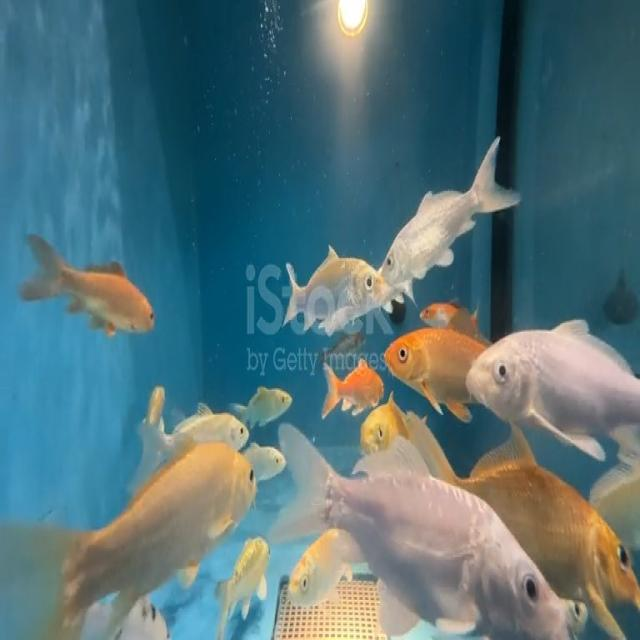fish: (278, 416, 570, 640), (0, 425, 261, 640), (459, 316, 640, 459), (490, 459, 640, 608), (21, 216, 163, 362), (382, 138, 532, 267), (278, 250, 393, 336), (377, 326, 471, 407), (283, 526, 352, 618), (217, 532, 274, 626), (320, 348, 384, 416), (349, 393, 404, 465), (178, 403, 256, 447), (238, 373, 302, 425), (243, 434, 292, 479), (420, 292, 479, 329), (144, 370, 165, 448)
